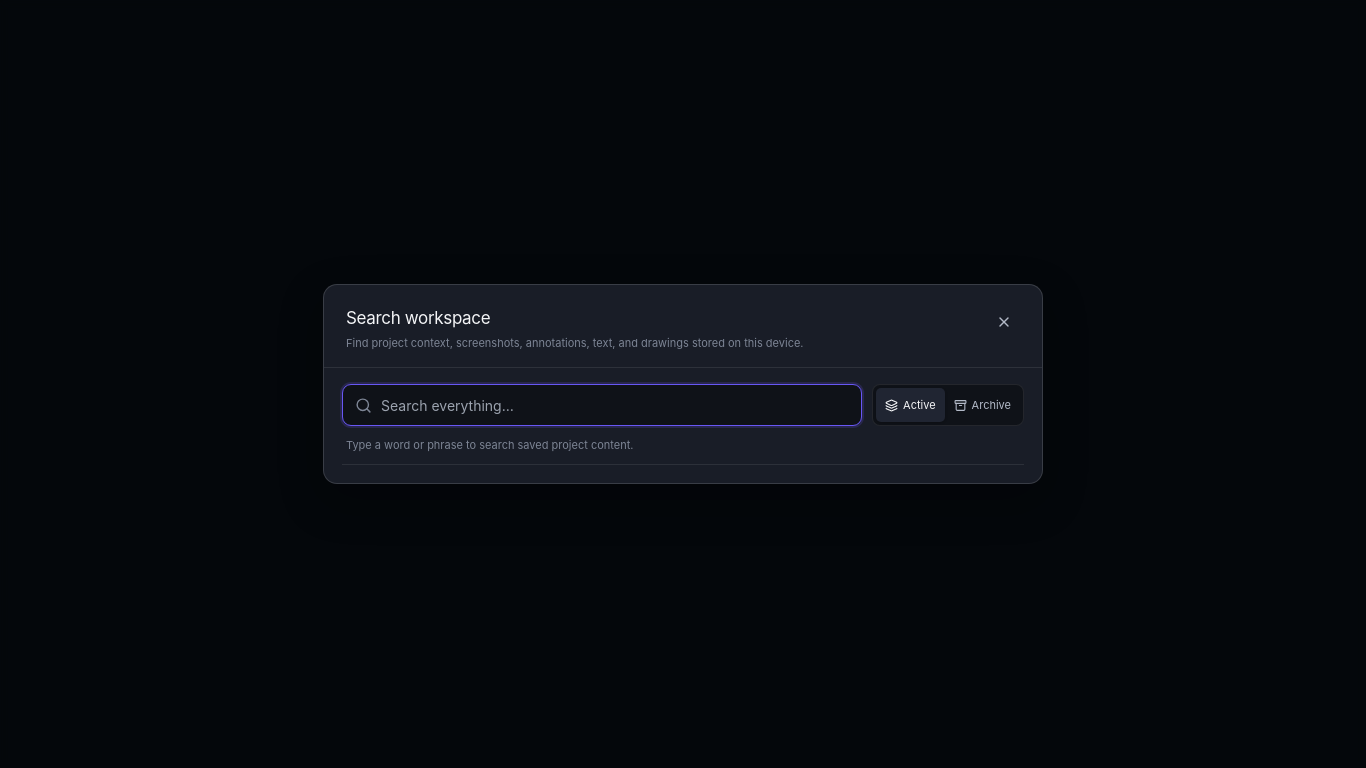
Scenario: SearchDialog › never renders an older response after the query changes
The image size is (1366, 768).
Type "first" into the dropdown with test id "global-search-input" at (615, 405), box [381,395,849,416]
Wait 180 ms
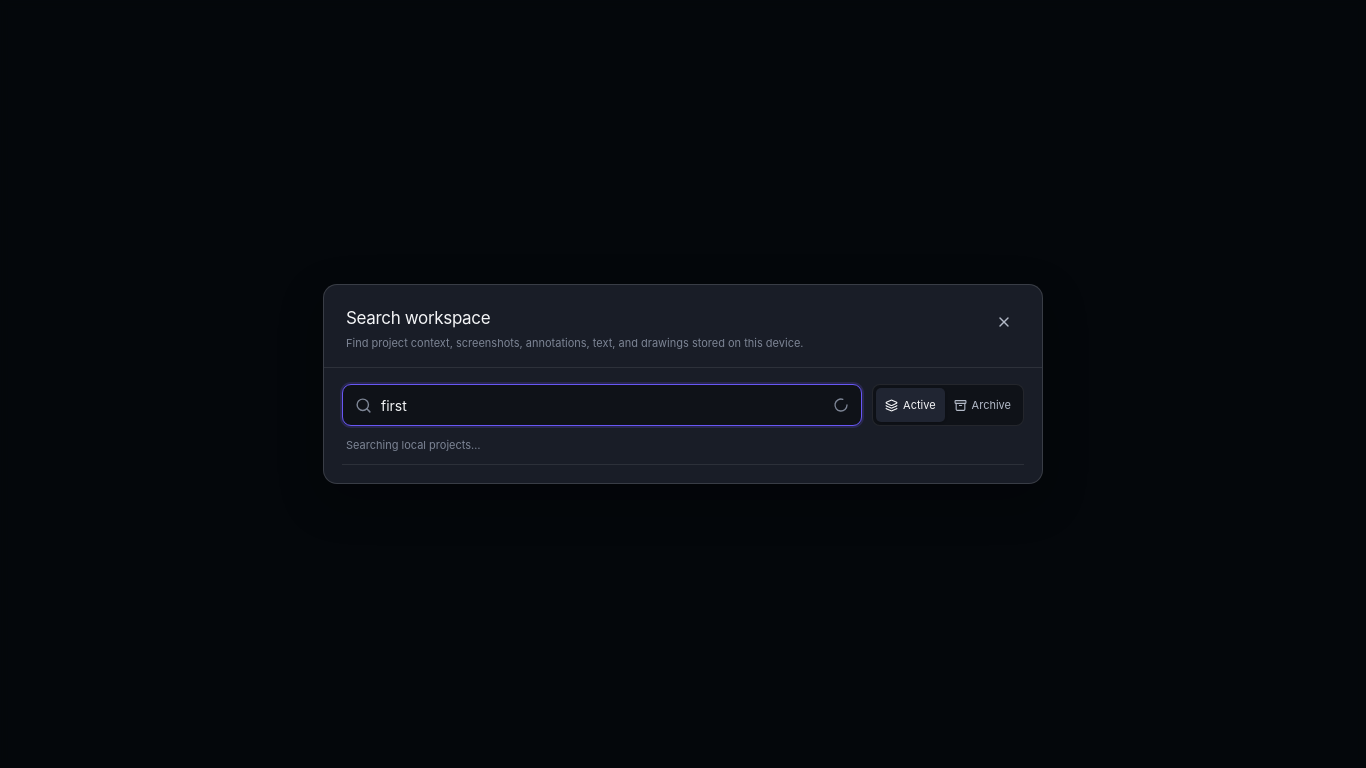
Replace the text in the dropdown with test id "global-search-input" with "second" at (603, 405), box [381,395,824,416]
Wait 180 ms
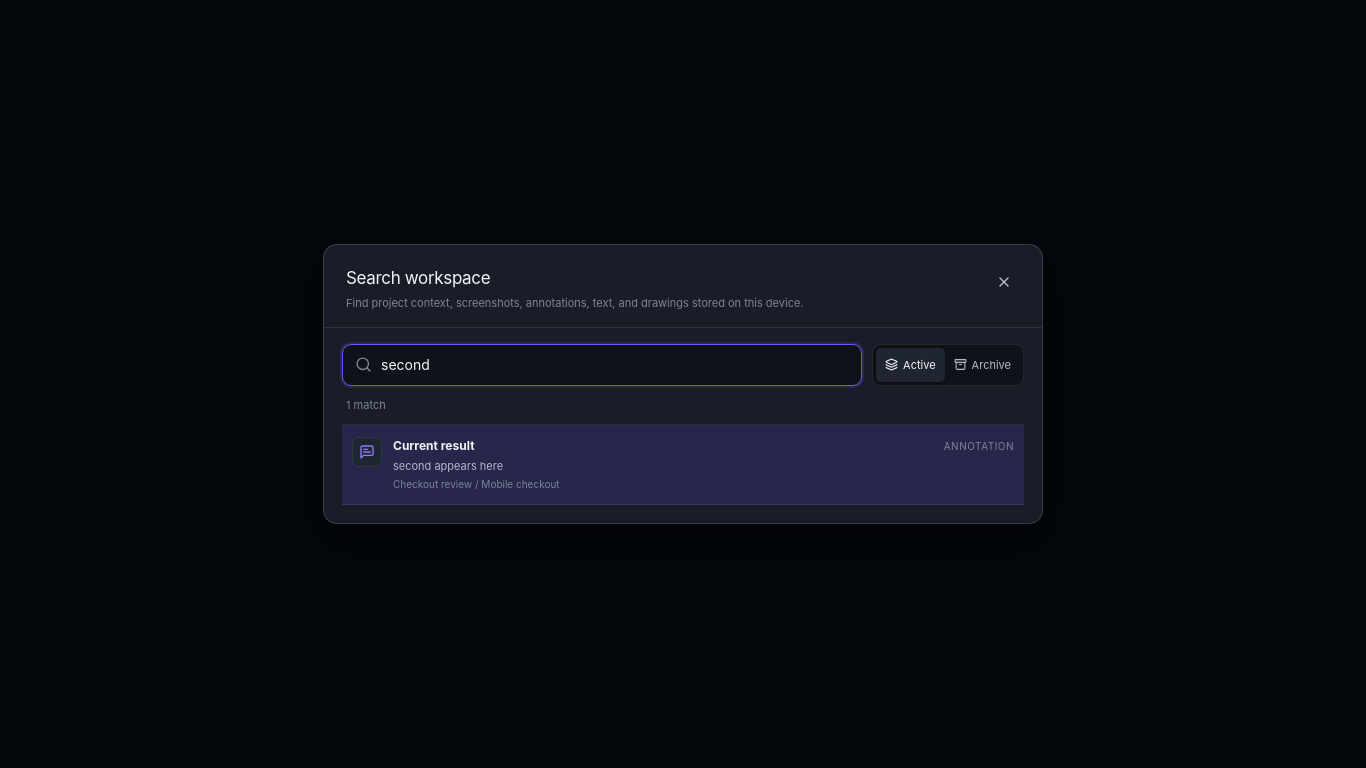
expect the text "Current result" is shown: met, box [393,437,474,455]
